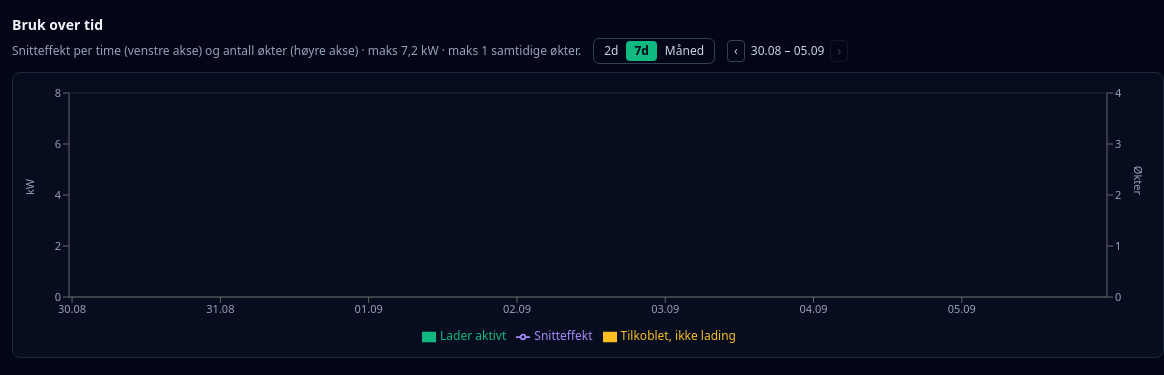
it: UsageChart › pages the hours window back and forward with the arrows
Expected: the text "Bruk over tid" is shown, [12,15,103,34]
Expected: the text "maks 7,2 kW" is shown, [12,42,581,59]
Click the button named "Forrige periode": (736, 51) [727,40,745,62]
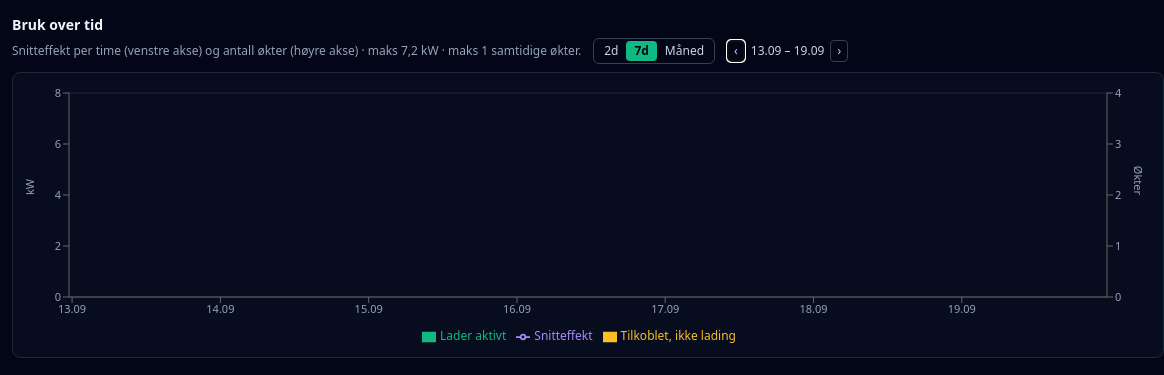
Expected: the text "maks 7,2 kW" is shown, [12,42,581,59]
Expected: the button named "Neste periode" is enabled
Click the button named "Neste periode": (839, 51) [830,40,848,62]
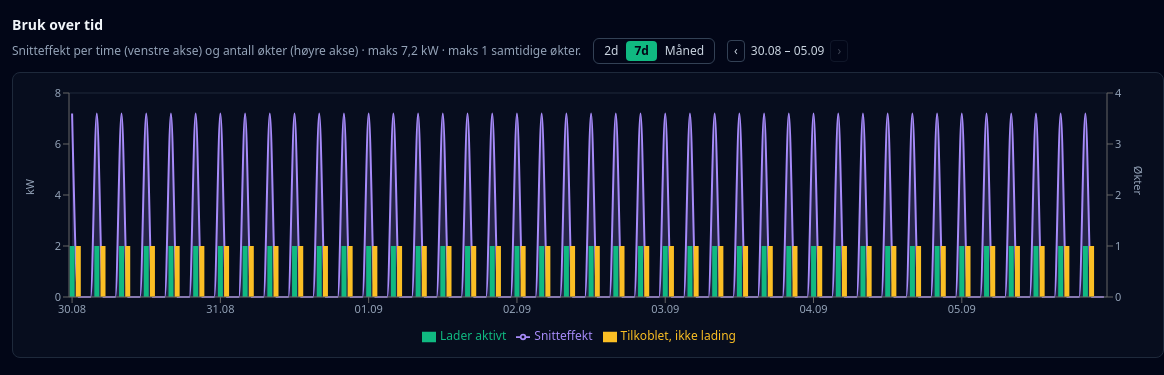
Expected: the text "maks 7,2 kW" is shown, [12,42,581,59]
Expected: the button named "Neste periode" is disabled, [830,40,848,62]
